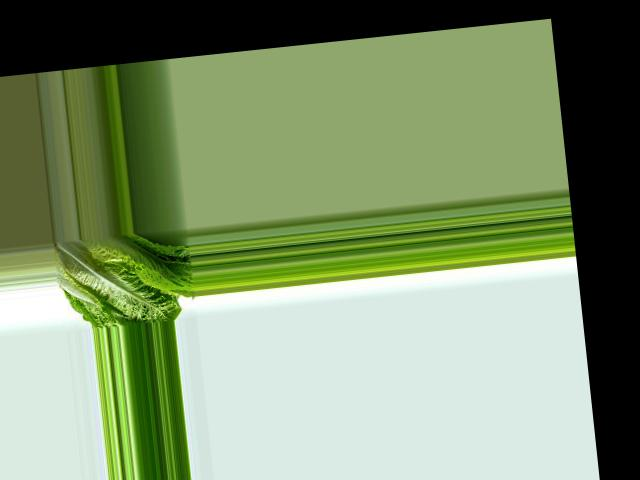lettuce: (53, 228, 198, 331)
